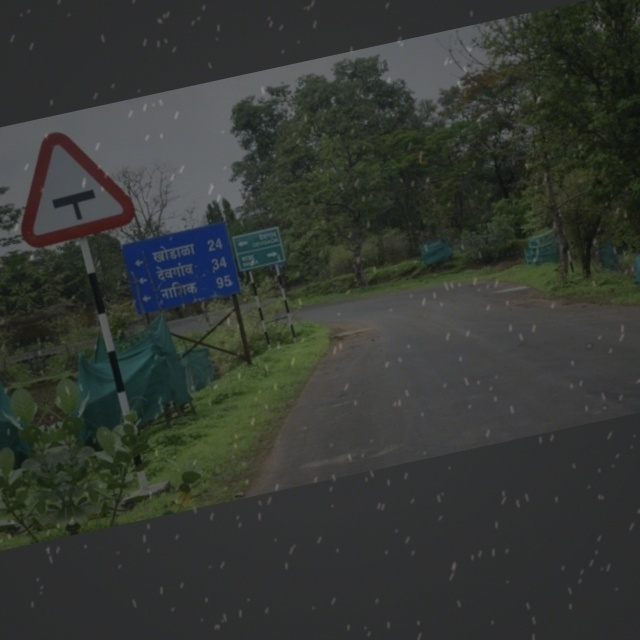T_Intersection: (5, 116, 141, 247)
